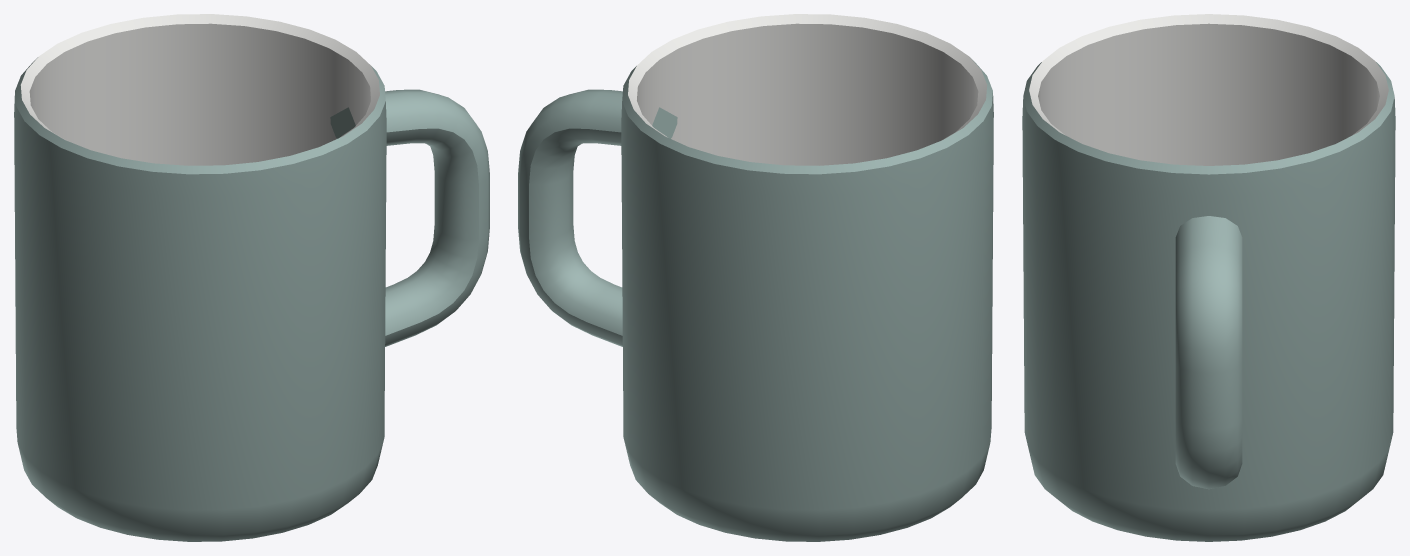
File: Mug.fbx
3 renders of one model, left to right at view 1: azimuth 30°, elevation 25°; view 2: azimuth 150°, elevation 25°; view 3: azimuth 270°, elevation 25°, orthographic.
Parts seen in each view (by area): view 1: Mug_Mesh; view 2: Mug_Mesh; view 3: Mug_Mesh.
Boxes of the visible parts, bbox=[...] form: Mug_Mesh: bbox=[14, 14, 489, 541]; Mug_Mesh: bbox=[518, 14, 993, 541]; Mug_Mesh: bbox=[1022, 14, 1395, 541].
Size of the model in its own units: 0.1158 by 0.095 by 0.084.
